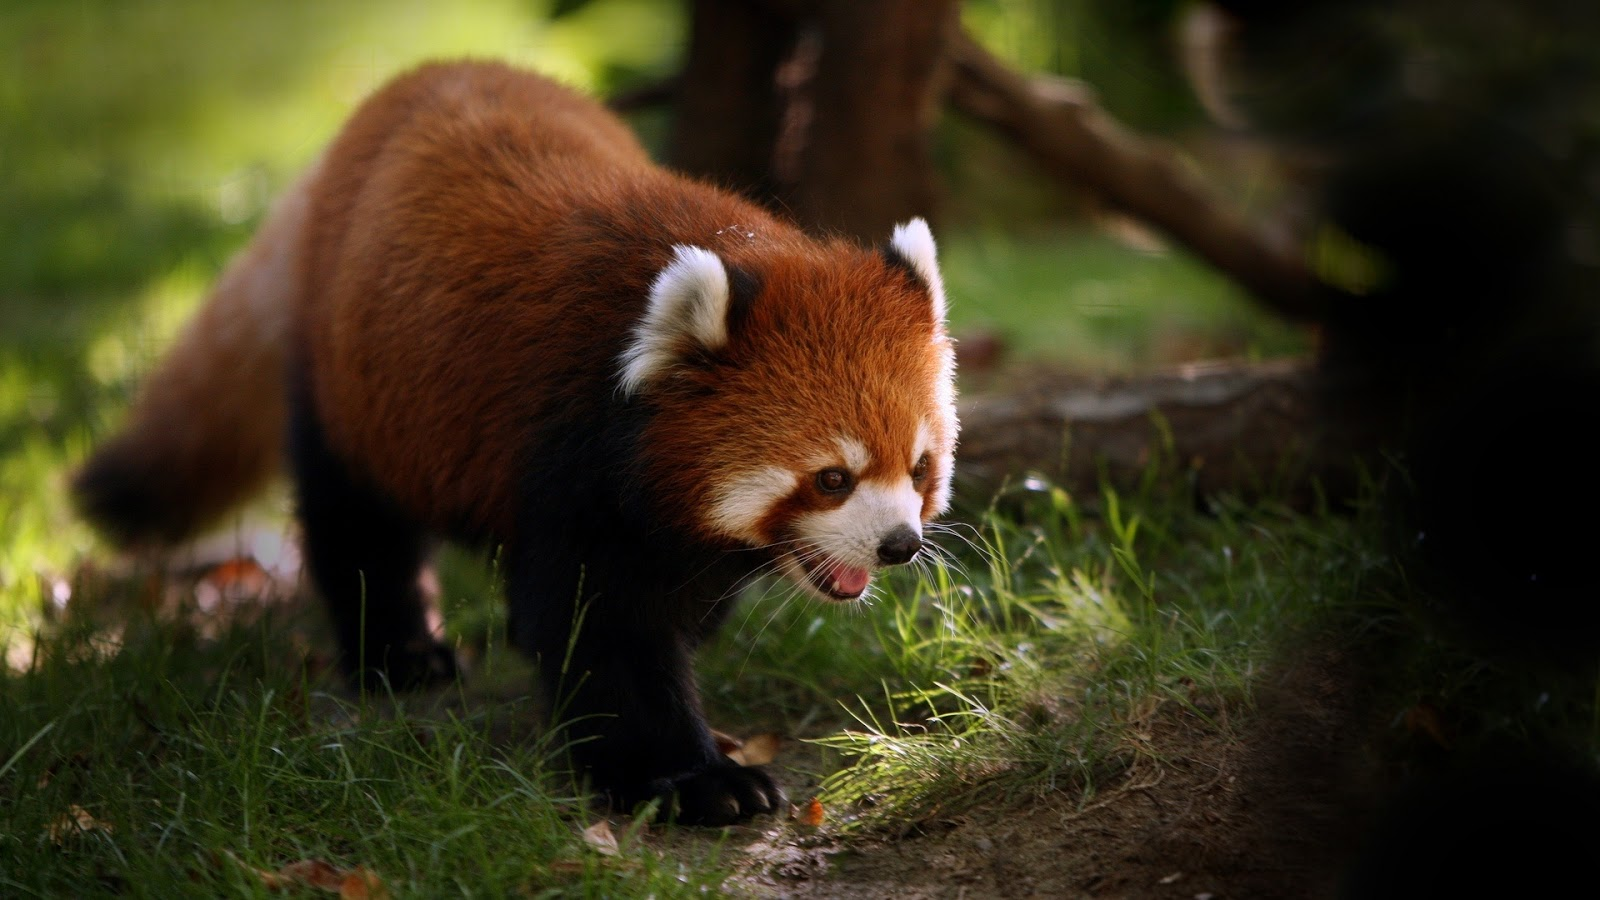red_panda: (77, 49, 959, 805)
